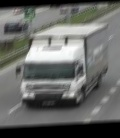truck: (13, 20, 109, 112)
